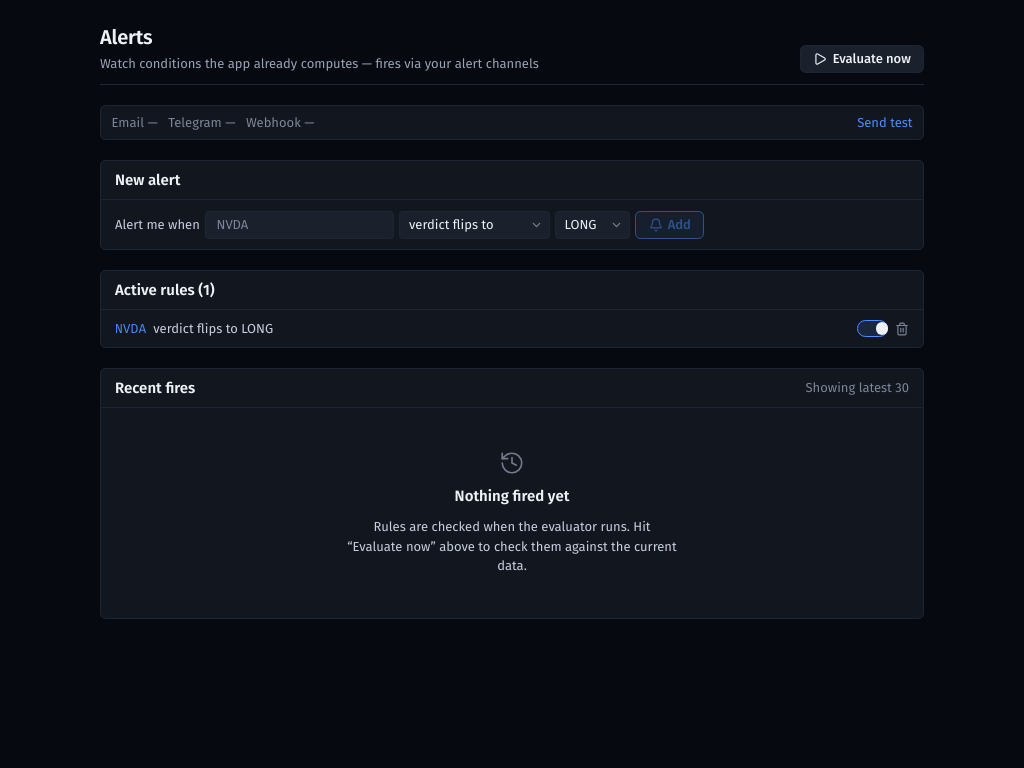
Scenario: AlertsPage delete undo (AL-04) › shows an undo toast after deleting a rule, and Undo restores it
Expected: the text "verdict flips to LONG" is shown, [153,319,273,338]
What coordinates should you click on to do the following:
click the button named "Delete rule"
I would click on:
 (902, 328)
Its box is [895,322,909,336].
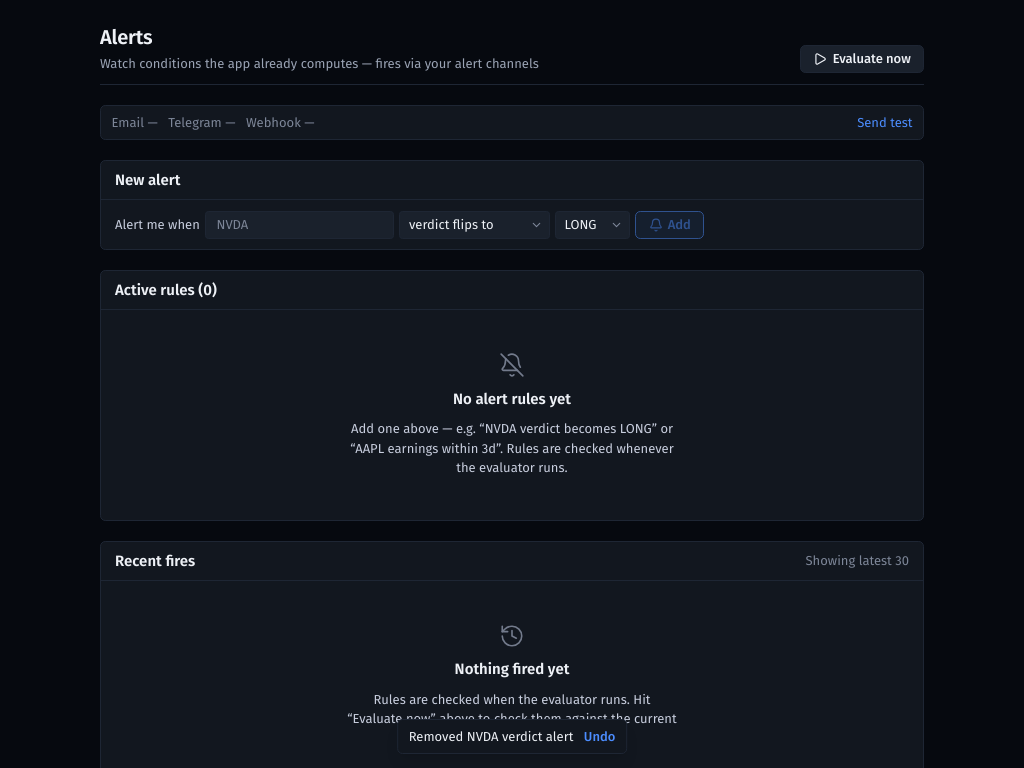
Expected: the text "Removed NVDA verdict alert" is shown, [409,726,573,746]
What coordinates should you click on to do the following:
click the button "Undo"
I would click on:
 (600, 736)
Its box is [584,726,615,746].
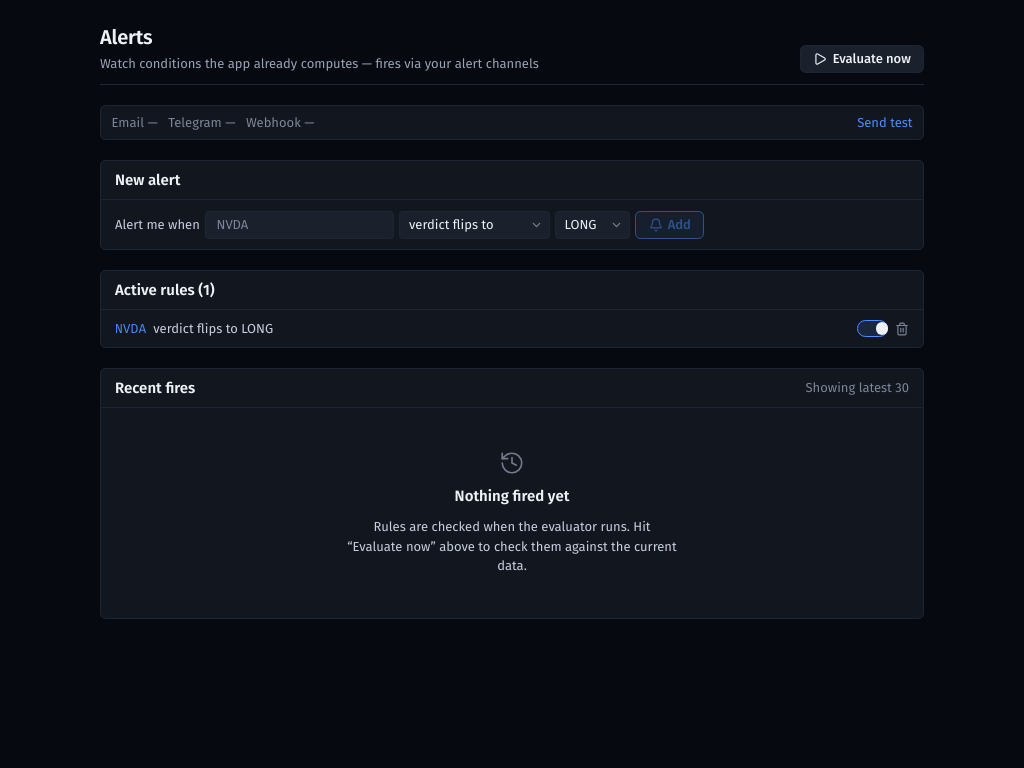
Expected: the text "verdict flips to LONG" is shown, [153,319,273,338]
